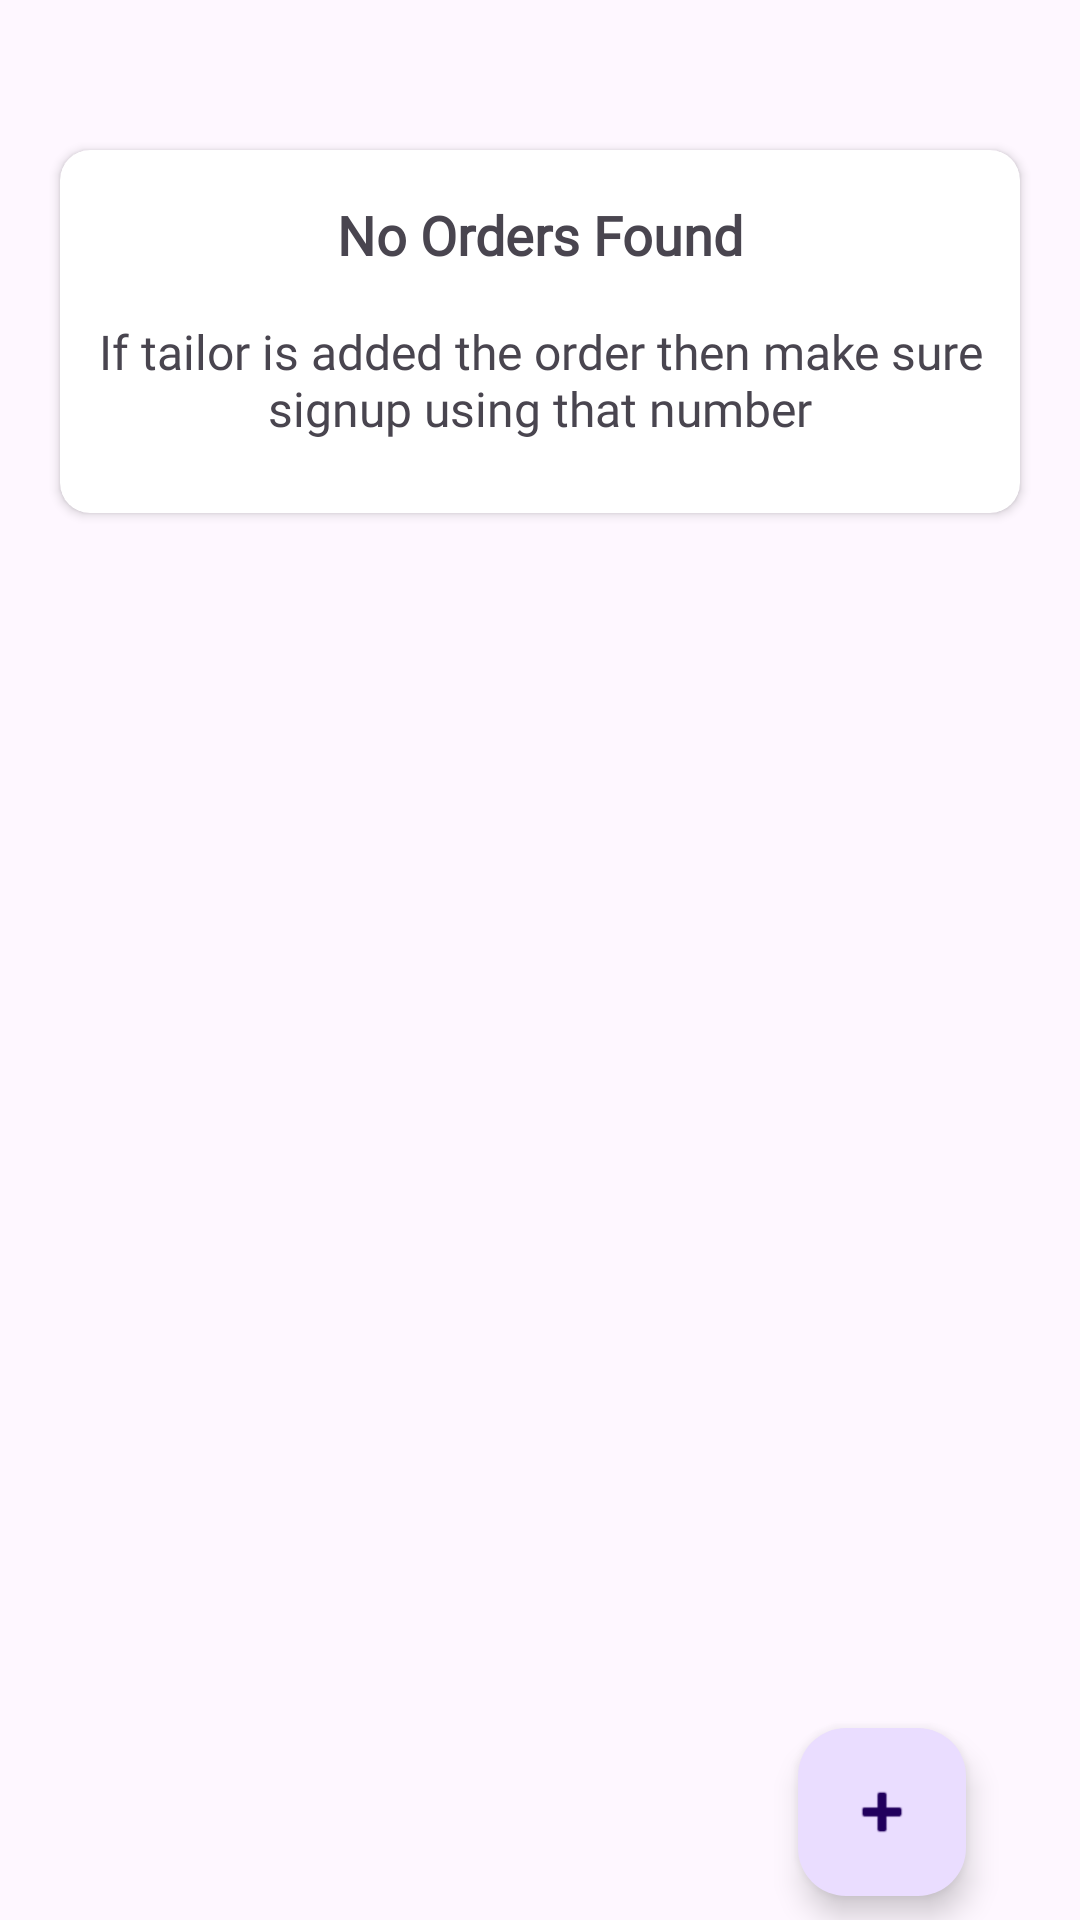

Icons on this 1080w x 1920h Android screen, each with its box as (x1, y1, x2, y2):
add: (798, 1728, 966, 1896)
